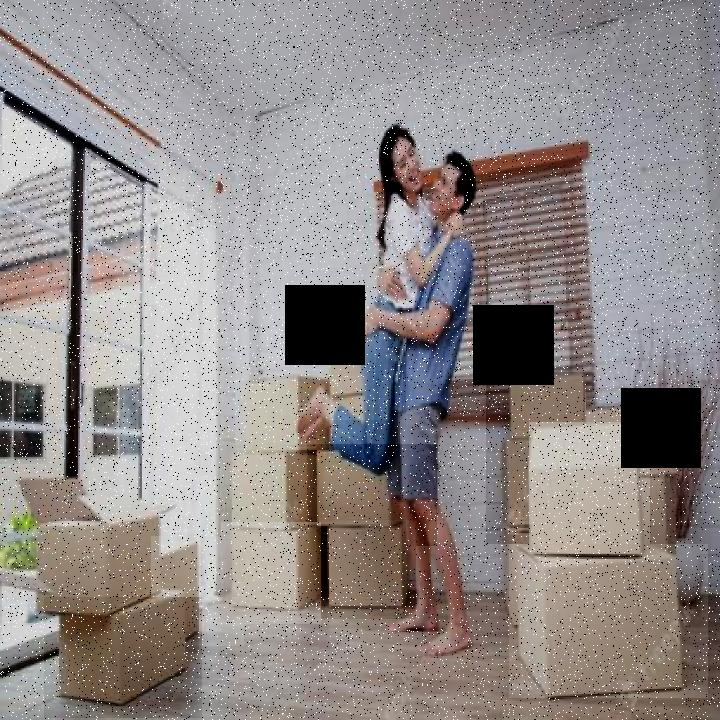box: (509, 545, 708, 698), (14, 463, 164, 620), (585, 392, 711, 574), (44, 597, 202, 718), (486, 372, 594, 544), (529, 422, 650, 568), (307, 444, 437, 546), (151, 536, 244, 646), (221, 522, 321, 624), (321, 520, 416, 619), (224, 364, 330, 449), (219, 445, 316, 531), (322, 331, 388, 420)
